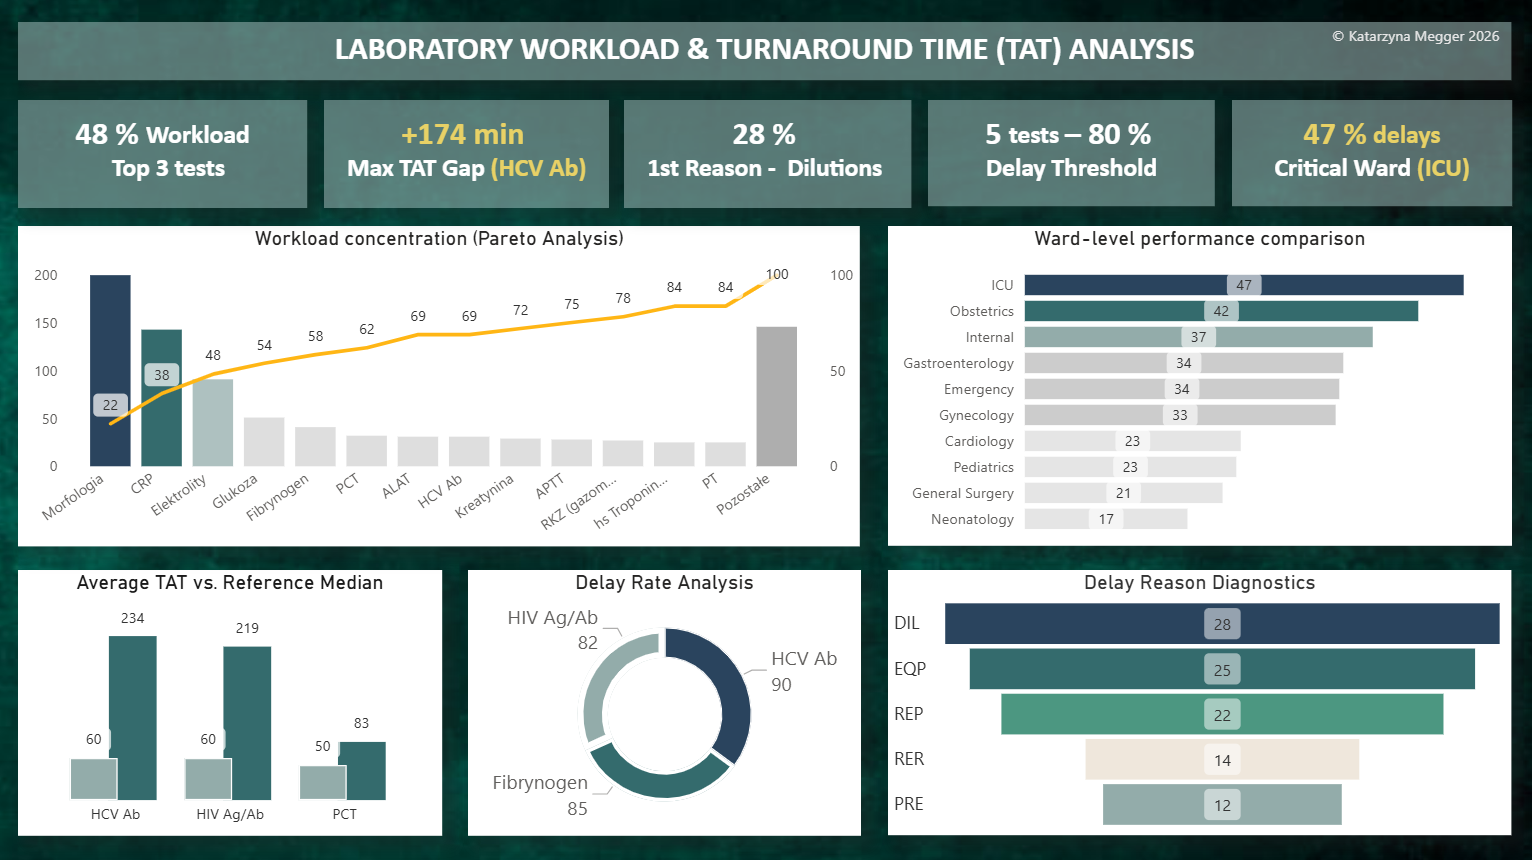

The page's visual inventory and layout, read from the dashboard file:
{"tool":"powerbi","page":{"name":"Strona 1","canvas":[1280,720],"ordinal":0},"visuals":[{"type":"lineClusteredColumnComboChart","title":"Average TAT vs. Reference Median","fields":{"Category":["_SELECT_t_test_name_t_category_ROUND_AVG_o_tat_minutes_0_AS_avg__202602191556.test_name"],"Y":["Sum(_SELECT_t_test_name_t_category_ROUND_AVG_o_tat_minutes_0_AS_avg__202602191556.TAT_med)","Sum(_SELECT_t_test_name_t_category_ROUND_AVG_o_tat_minutes_0_AS_avg__202602191556.avg_tat_minutes)"]},"box":[17.4,476.8,353.6,221.7],"z":0},{"type":"lineClusteredColumnComboChart","title":"Workload concentration (Pareto Analysis)","fields":{"Category":["cumulative_orders_202602171343.Grupa Pareto"],"Y":["Sum(cumulative_orders_202602171343.total_orders)","select"],"Y2":["Max(cumulative_orders_202602171343.cumulative_percentage)"]},"box":[17.2,189.7,701.7,267.2],"z":1000},{"type":"donutChart","title":"Delay Rate Analysis","fields":{"Category":["_SELECT_t_test_name_COUNT_o_order_id_AS_total_orders_SUM_CASE_WH_202602191940.Grupa Pareto"],"Y":["Sum(_SELECT_t_test_name_COUNT_o_order_id_AS_total_orders_SUM_CASE_WH_202602191940.delayed_percentage)"]},"box":[391.3,476.8,327.5,221.7],"z":2000},{"type":"textbox","box":[16.4,85.2,241,90.2],"z":4000},{"type":"textbox","box":[272.1,85.2,237.7,90.2],"z":5000},{"type":"textbox","box":[521.3,85.2,239.3,90.2],"z":6000},{"type":"textbox","box":[775.4,85.5,239.1,88.4],"z":7000},{"type":"barChart","title":"Ward-level performance comparison","fields":{"Category":["_SELECT_w_ward_name_COUNT_o_order_id_AS_ward_order_volume_ROUND__202602191946.ward_name"],"Y":["Sum(_SELECT_w_ward_name_COUNT_o_order_id_AS_ward_order_volume_ROUND__202602191946.ward_delay_rate)"]},"box":[741.1,190.2,520.1,266.5],"z":8000},{"type":"funnel","title":"Delay Reason Diagnostics","fields":{"Category":["_SELECT_delay_reason_COUNT_order_id_AS_occurrence_count_ROUND_CO_202602191955.delay_reason"],"Y":["Sum(_SELECT_delay_reason_COUNT_order_id_AS_occurrence_count_ROUND_CO_202602191955.share_percentage)"]},"box":[740.8,477.5,519.7,221.1],"z":9000},{"type":"textbox","box":[1027.5,85.5,233.3,88.4],"z":10000},{"type":"textbox","box":[17.1,20,1244.3,48.6],"z":11000},{"type":"textbox","box":[1107.4,16.7,153.7,48.1],"z":12000}]}

Visuals, with their boxes in screenshot pixels (x1, y1, x2, y2), scaled from the page's 1280x720 canvas onto the 1532x860 screenshot:
"Average TAT vs. Reference Median" lineClusteredColumnComboChart: select_region(21, 570, 444, 834)
"Workload concentration (Pareto Analysis)" lineClusteredColumnComboChart: select_region(21, 227, 860, 546)
"Delay Rate Analysis" donutChart: select_region(468, 570, 860, 834)
textbox: select_region(20, 102, 308, 210)
textbox: select_region(326, 102, 610, 210)
textbox: select_region(624, 102, 910, 210)
textbox: select_region(928, 102, 1214, 208)
"Ward-level performance comparison" barChart: select_region(887, 227, 1509, 546)
"Delay Reason Diagnostics" funnel: select_region(887, 570, 1509, 834)
textbox: select_region(1230, 102, 1509, 208)
textbox: select_region(20, 24, 1510, 82)
textbox: select_region(1325, 20, 1509, 77)
